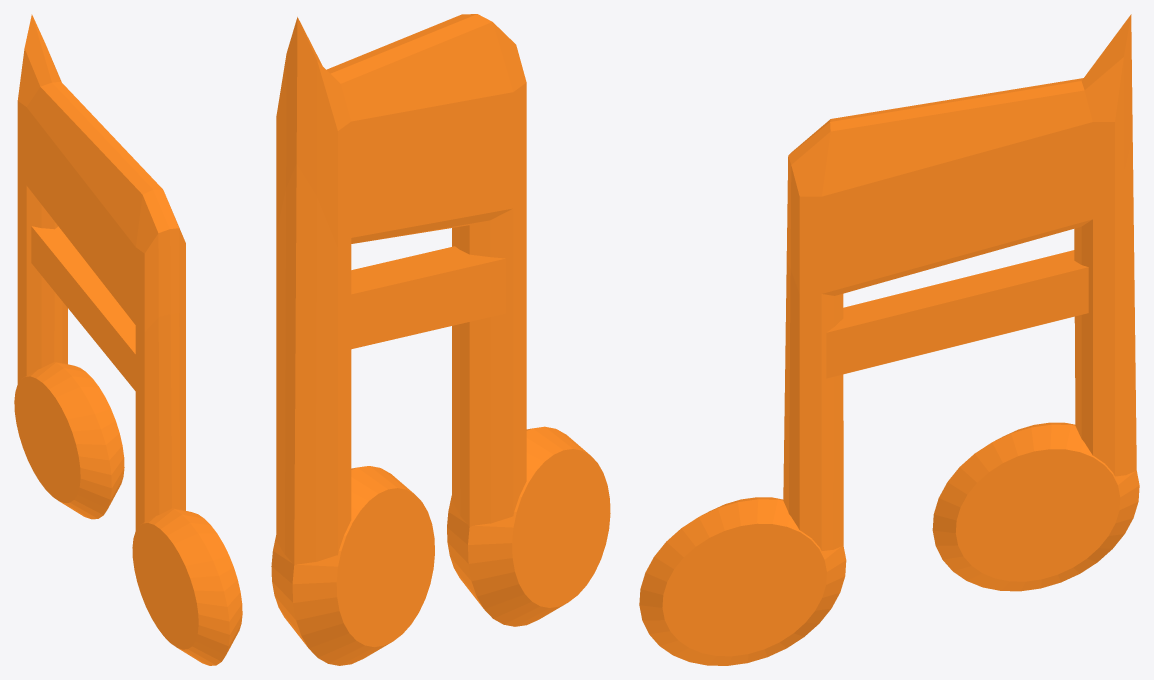
Rendered from proj4.glb.
3 views of the same model, side by side, from view 1: azimuth 30°, elevation 25°; view 2: azimuth 150°, elevation 25°; view 3: azimuth 270°, elevation 25° (orthographic). The views are drawn at different scales.
Visible parts, largest first — view 1: Plane.001, Plane.002; view 2: Plane.001, Plane.002; view 3: Plane.001, Plane.002.
Part boxes in pixels (bbox=[...]): Plane.001: bbox=[14, 14, 242, 665]; Plane.002: bbox=[31, 226, 135, 390]; Plane.001: bbox=[271, 14, 610, 665]; Plane.002: bbox=[351, 246, 505, 349]; Plane.001: bbox=[639, 14, 1139, 665]; Plane.002: bbox=[826, 250, 1088, 378].
Bounding box in the file's own units: 0.3052 × 3.49 × 2.43.
